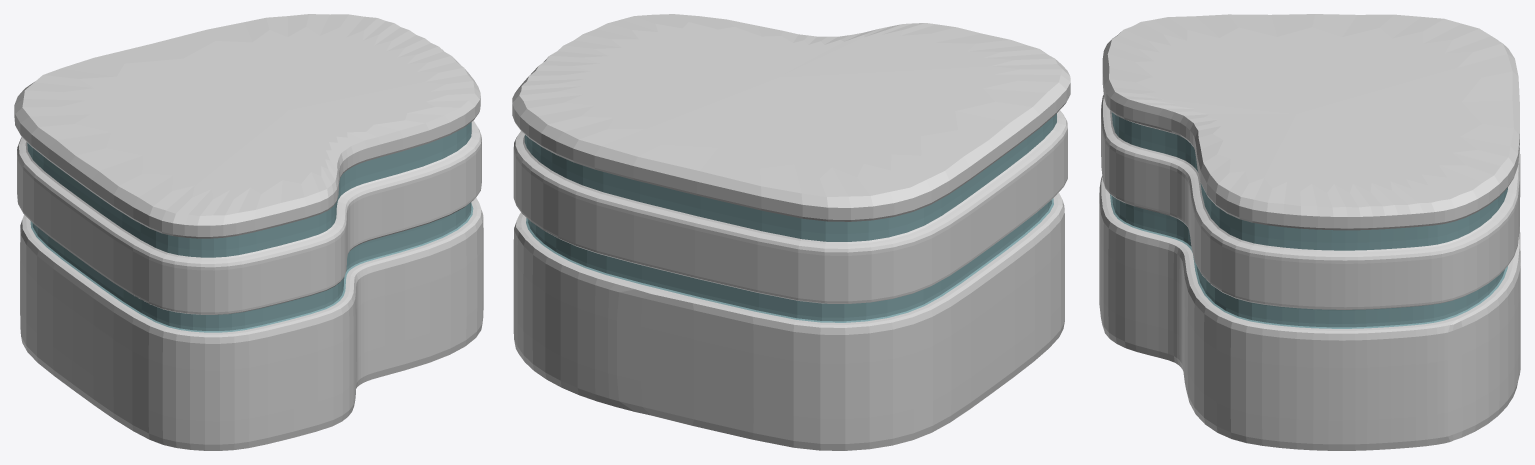
The model's file is house02(2).fbx.
3 views of the same model, side by side, from view 1: azimuth 30°, elevation 25°; view 2: azimuth 150°, elevation 25°; view 3: azimuth 270°, elevation 25° (orthographic). The views are drawn at different scales.
Parts seen in each view (by area): view 1: Cube.004; view 2: Cube.004; view 3: Cube.004.
Boxes of the visible parts, box(x1,y1,x2,y2) form: Cube.004: box(14, 14, 483, 450); Cube.004: box(512, 14, 1070, 450); Cube.004: box(1099, 14, 1520, 450).
Bounding box in the file's own units: 1619 × 929 × 1449.
